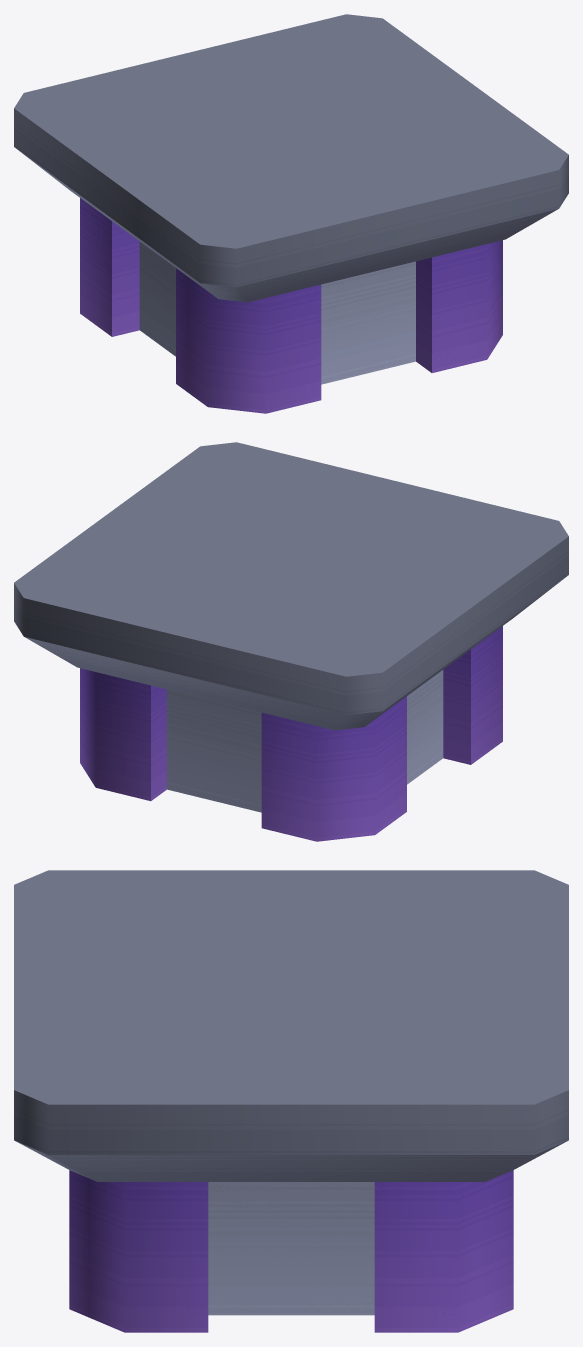
The model's file is tower-square-middle-b.glb.
3 renders of one model, top to bottom at view 1: azimuth 30°, elevation 25°; view 2: azimuth 150°, elevation 25°; view 3: azimuth 270°, elevation 25°, orthographic. The views are drawn at different scales.
Visible parts, largest first — view 1: tower-square-middle-b; view 2: tower-square-middle-b; view 3: tower-square-middle-b.
Part boxes in pixels (x1,y1,x2,y2): tower-square-middle-b: (14, 14, 568, 413); tower-square-middle-b: (14, 442, 568, 841); tower-square-middle-b: (14, 870, 568, 1332).
Size of the model in its own units: 3 by 1.5 by 3.
1 material, 1 textured.
